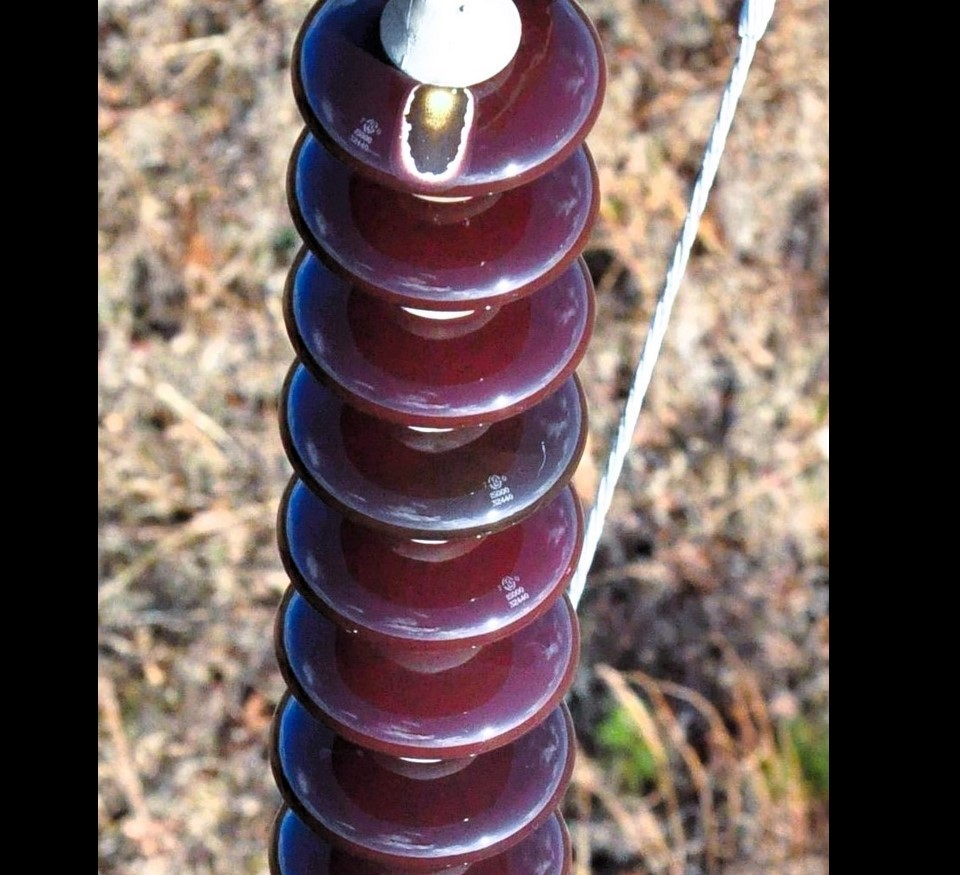Insulator flashover: (289, 4, 613, 207)
